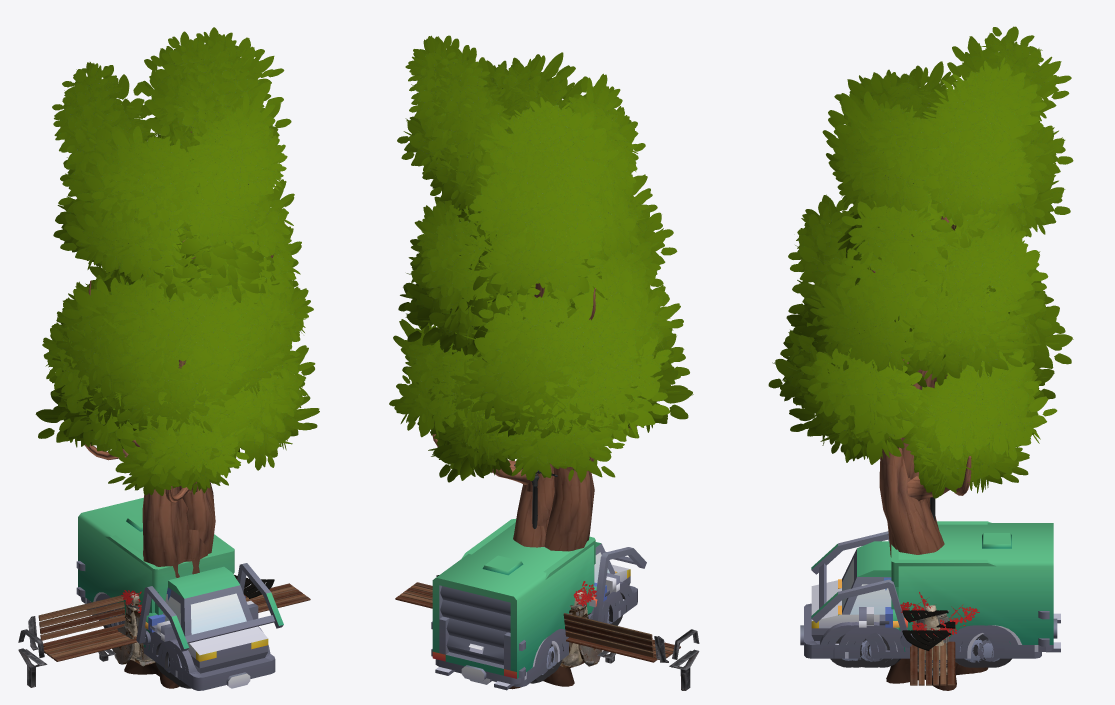
The model's file is props.glb.
3 views of the same model, side by side, from view 1: azimuth 30°, elevation 25°; view 2: azimuth 150°, elevation 25°; view 3: azimuth 270°, elevation 25° (orthographic). The views are drawn at different scales.
Parts seen in each view (by area): view 1: CommonTree_3, CommonTree_4, CommonTree_1, CommonTree_2, body (×3), arm, seat_back, seat, seat_bench; view 2: CommonTree_1, CommonTree_3, CommonTree_2, CommonTree_4, body (×3), door, seat_back, arm, seat, seat_bench; view 3: CommonTree_2, CommonTree_4, body (×5), CommonTree_3, CommonTree_1, arm, seat_bench, Bush_Common, connector_60.
Part boxes in pixels (left/top/right/bottom): CommonTree_3: left=52, top=31, right=313, bottom=688; CommonTree_4: left=60, top=27, right=294, bottom=688; CommonTree_1: left=35, top=238, right=319, bottom=688; CommonTree_2: left=42, top=186, right=315, bottom=687; body (×3): left=76, top=497, right=275, bottom=690; arm: left=136, top=563, right=283, bottom=651; seat_back: left=38, top=595, right=125, bottom=640; seat: left=43, top=623, right=137, bottom=661; seat_bench: left=244, top=583, right=310, bottom=612; CommonTree_1: left=405, top=200, right=693, bottom=683; CommonTree_3: left=414, top=45, right=677, bottom=687; CommonTree_2: left=389, top=201, right=689, bottom=687; CommonTree_4: left=397, top=35, right=645, bottom=689; body (×3): left=431, top=519, right=637, bottom=690; door: left=440, top=586, right=510, bottom=665; seat_back: left=563, top=613, right=654, bottom=657; arm: left=588, top=547, right=646, bottom=621; seat: left=566, top=637, right=680, bottom=662; seat_bench: left=395, top=582, right=432, bottom=608; CommonTree_2: left=768, top=184, right=1057, bottom=690; CommonTree_4: left=822, top=26, right=1073, bottom=690; body (×5): left=800, top=521, right=1060, bottom=658; CommonTree_3: left=785, top=43, right=1070, bottom=690; CommonTree_1: left=780, top=205, right=1073, bottom=687; arm: left=811, top=531, right=914, bottom=647; seat_bench: left=910, top=641, right=955, bottom=685; Bush_Common: left=900, top=592, right=979, bottom=639; connector_60: left=902, top=630, right=951, bottom=650.
Size of what is drawn, in the model's own units: 4.6 by 9.44 by 4.65.
Materials: 20 (20 with a texture image).
